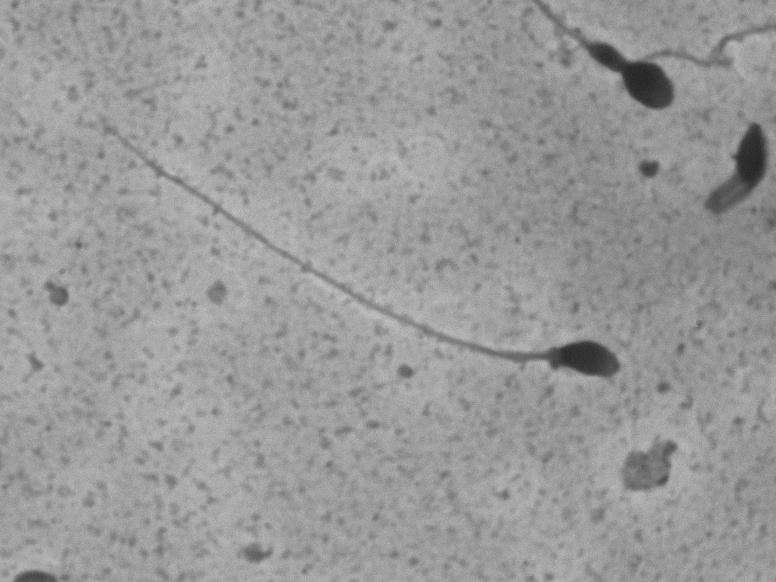Abnormal: (115, 127, 631, 445), (563, 2, 690, 128)
